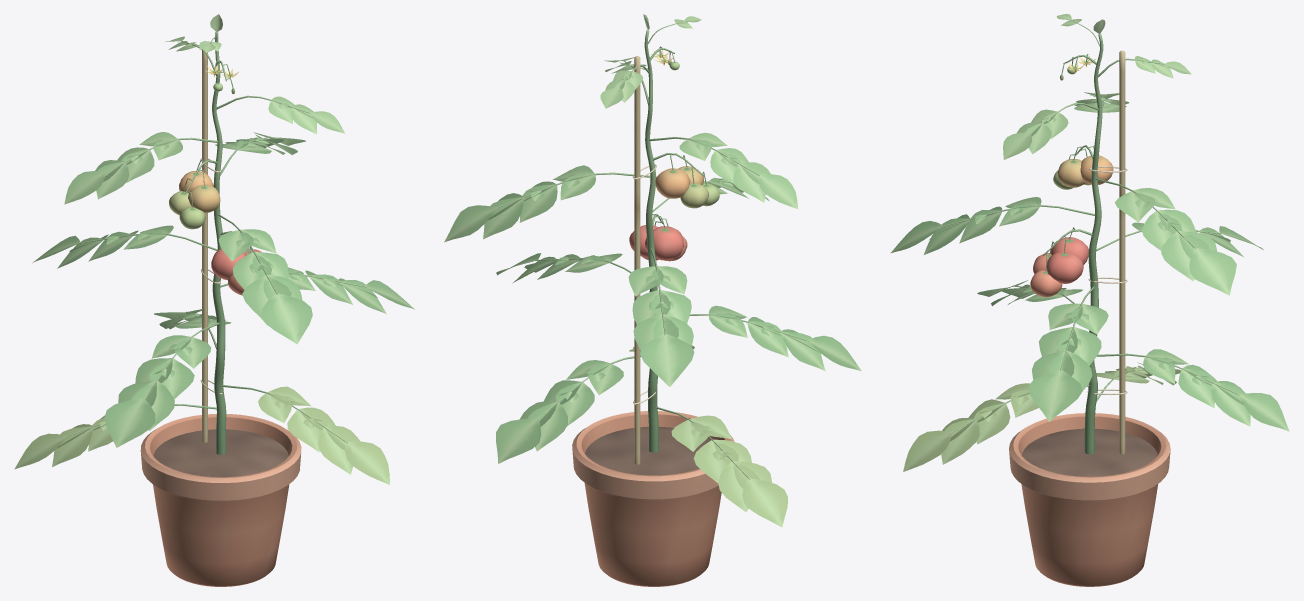
Rendered from tomato_stage4.glb.
3 renders of one model, left to right at view 1: azimuth 30°, elevation 25°; view 2: azimuth 150°, elevation 25°; view 3: azimuth 270°, elevation 25°, orthographic.
Parts seen in each view (by area): view 1: tomato_stage4; view 2: tomato_stage4; view 3: tomato_stage4.
Boxes of the visible parts, bbox=[...] form: tomato_stage4: bbox=[14, 14, 414, 586]; tomato_stage4: bbox=[444, 14, 861, 586]; tomato_stage4: bbox=[890, 14, 1289, 586].
Size of the model in its own units: 0.5478 by 0.8372 by 0.5536.
